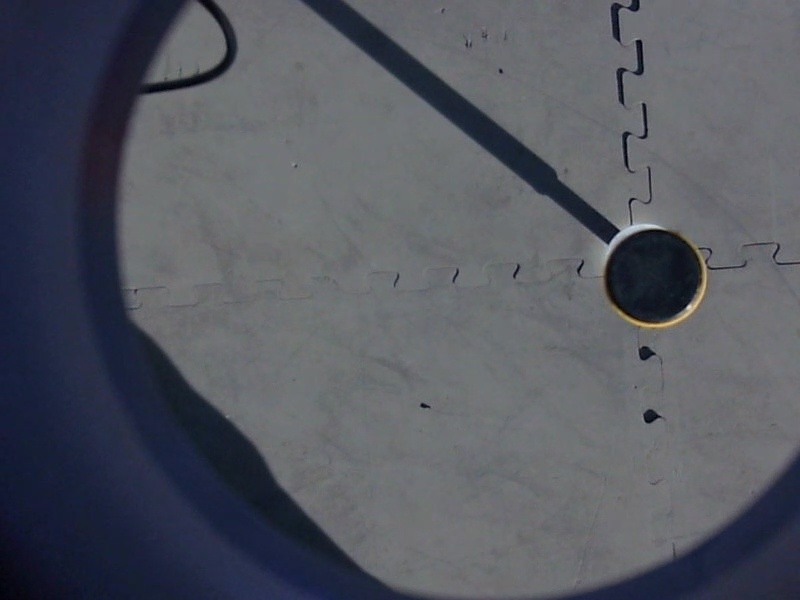tip: (598, 220, 714, 337)
